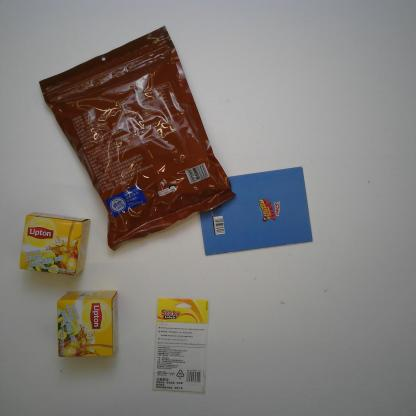Dried Food: (36, 21, 236, 254)
Instant Drink: (50, 283, 126, 362), (16, 210, 93, 278)
Stationery: (197, 160, 313, 258), (147, 294, 213, 396)
